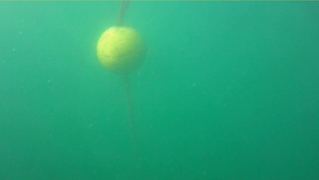buoy: (95, 25, 148, 75)
